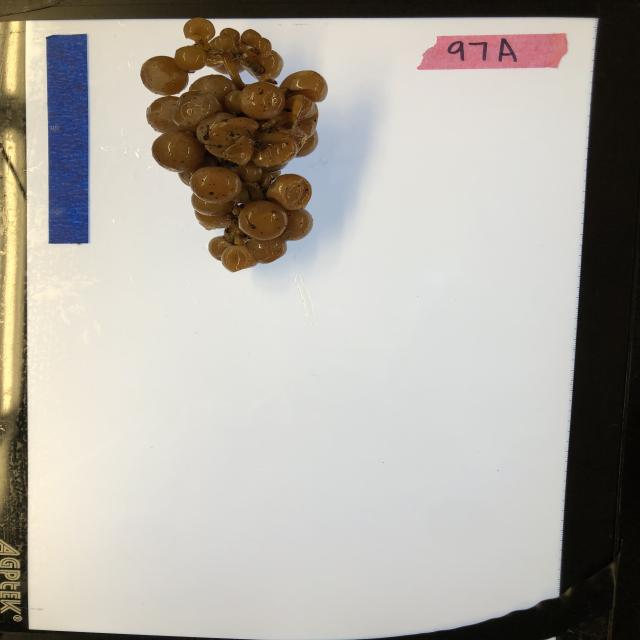grape_cluster: (137, 15, 330, 271)
index: (419, 32, 568, 71)
measure_label: (44, 33, 93, 246)
